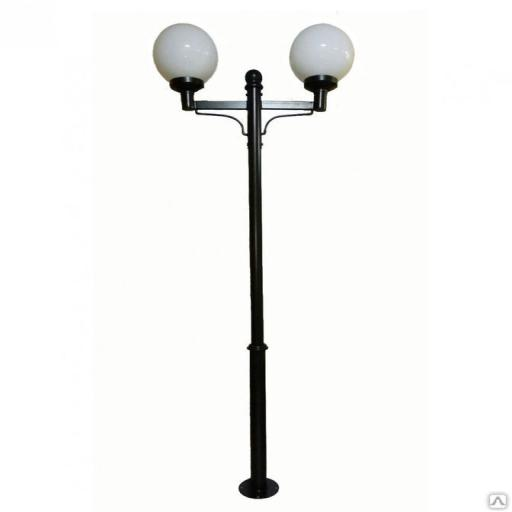Light-pole: (151, 17, 378, 497)
